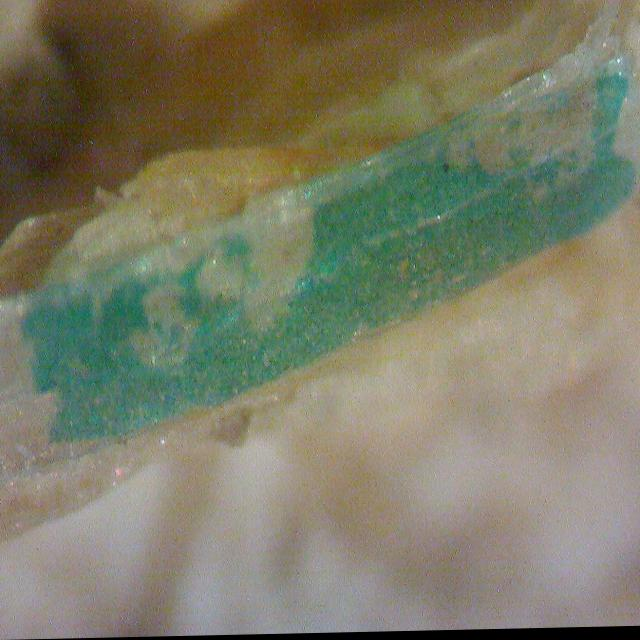microplastic: (0, 12, 640, 545)
